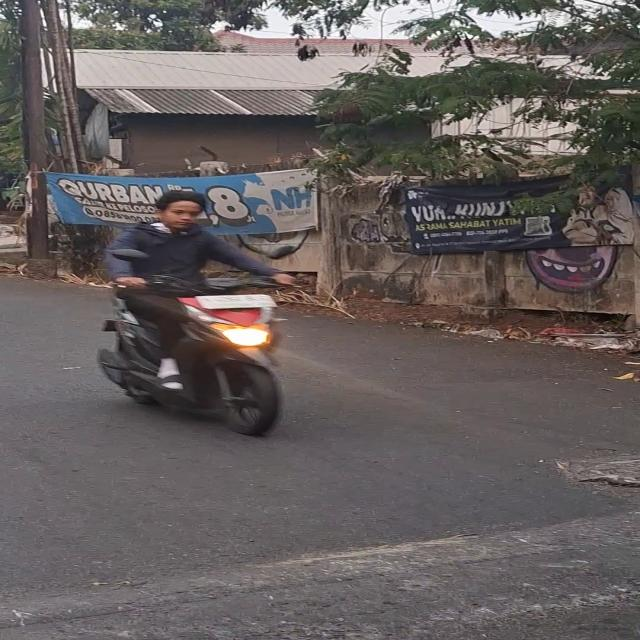WithoutHelmet: (107, 187, 288, 438)
